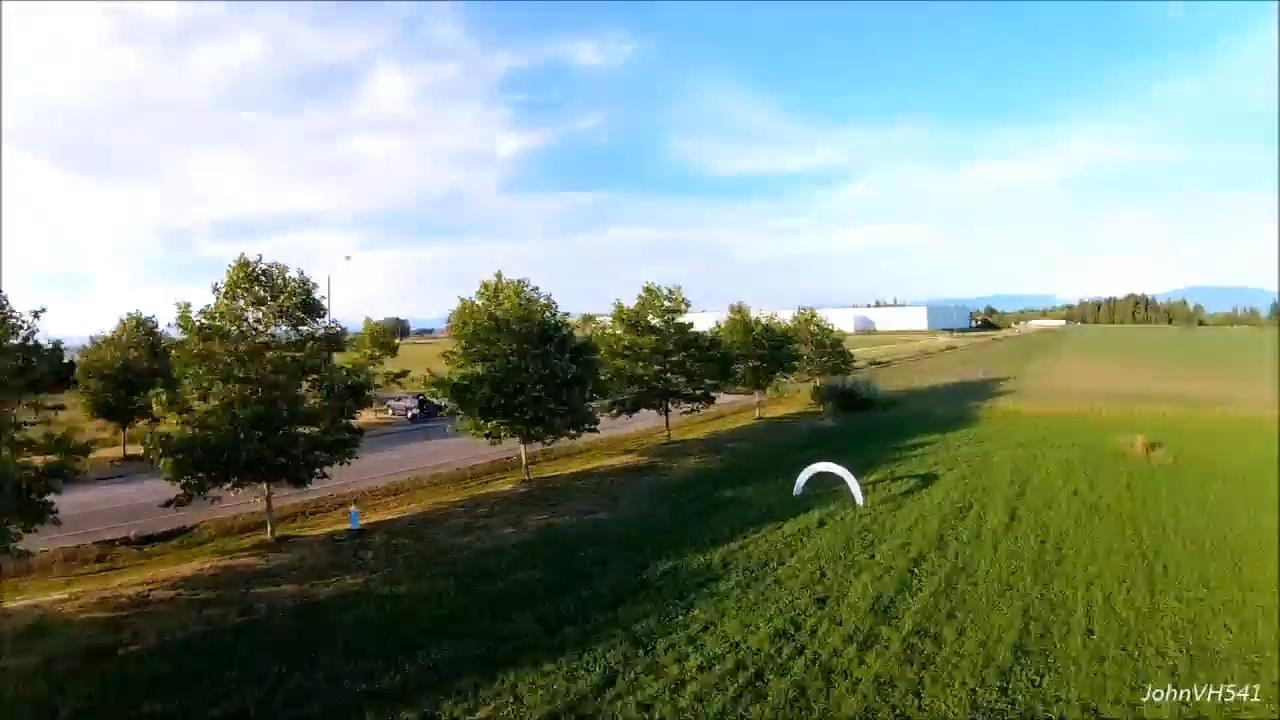gate: (793, 461, 863, 506)
